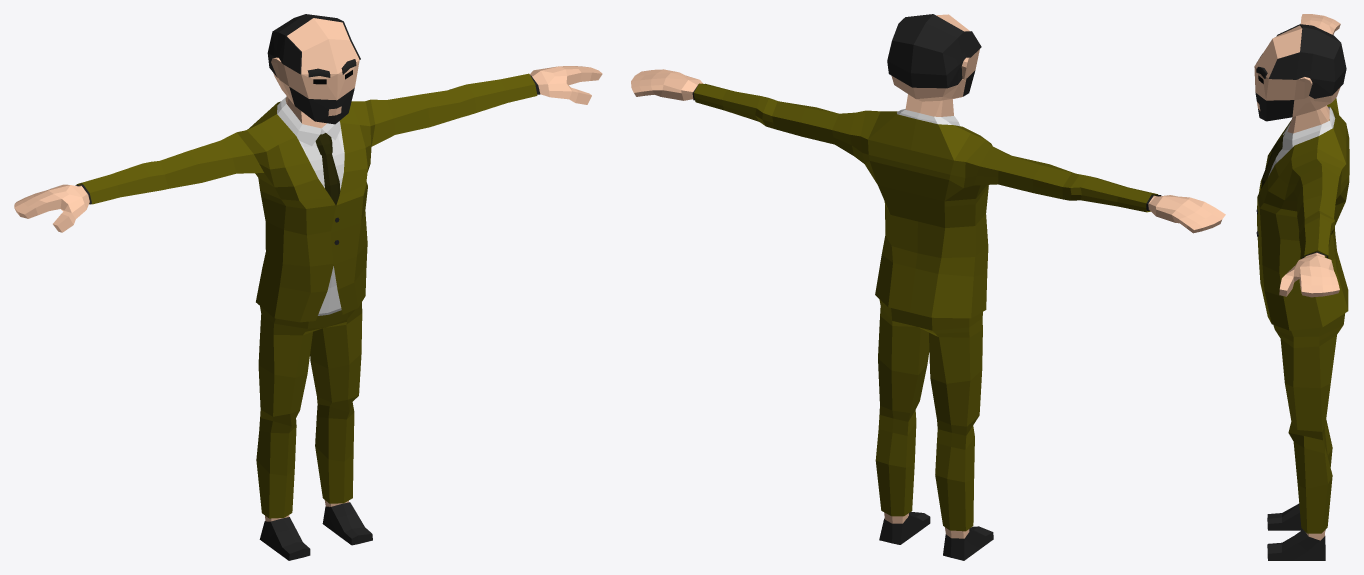
The model's file is NPC_AmarilloPocho_Escenario2_Corbata.fbx.
The picture shows the model from 3 angles, left to right: view 1: azimuth 30°, elevation 25°; view 2: azimuth 150°, elevation 25°; view 3: azimuth 270°, elevation 25°; orthographic projection. The views are drawn at different scales.
Parts seen in each view (by area): view 1: Personaje; view 2: Personaje; view 3: Personaje.
Boxes of the visible parts, <box> form: Personaje: <box>14,14,602,560</box>; Personaje: <box>631,14,1225,560</box>; Personaje: <box>1254,14,1349,560</box>.
Size of the model in its own units: 215 by 184 by 30.94.
